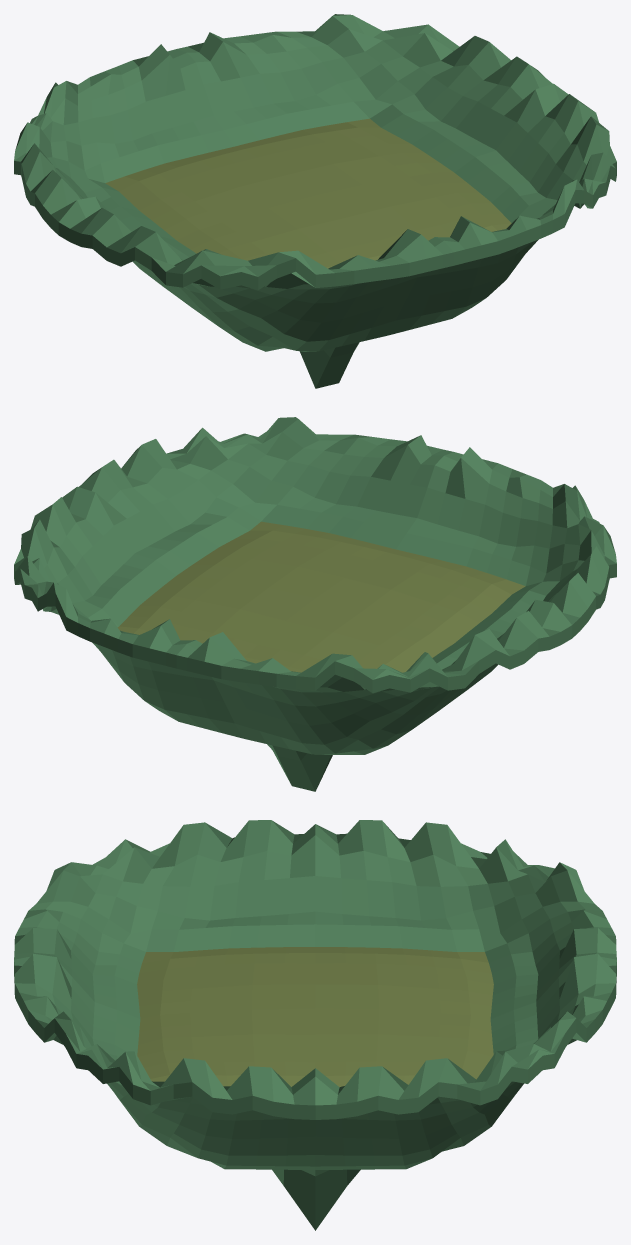
Rendered from SeedV2.fbx.
The picture shows the model from 3 angles, top to bottom: view 1: azimuth 30°, elevation 25°; view 2: azimuth 150°, elevation 25°; view 3: azimuth 270°, elevation 25°; orthographic projection. The views are drawn at different scales.
Visible parts, largest first — view 1: Seed; view 2: Seed; view 3: Seed.
Part boxes in pixels (x1=…): Seed: x1=14, y1=14, x2=616, y2=388; Seed: x1=14, y1=417, x2=616, y2=791; Seed: x1=14, y1=820, x2=616, y2=1230.
Bounding box in the file's own units: 200 × 95.19 × 187.
